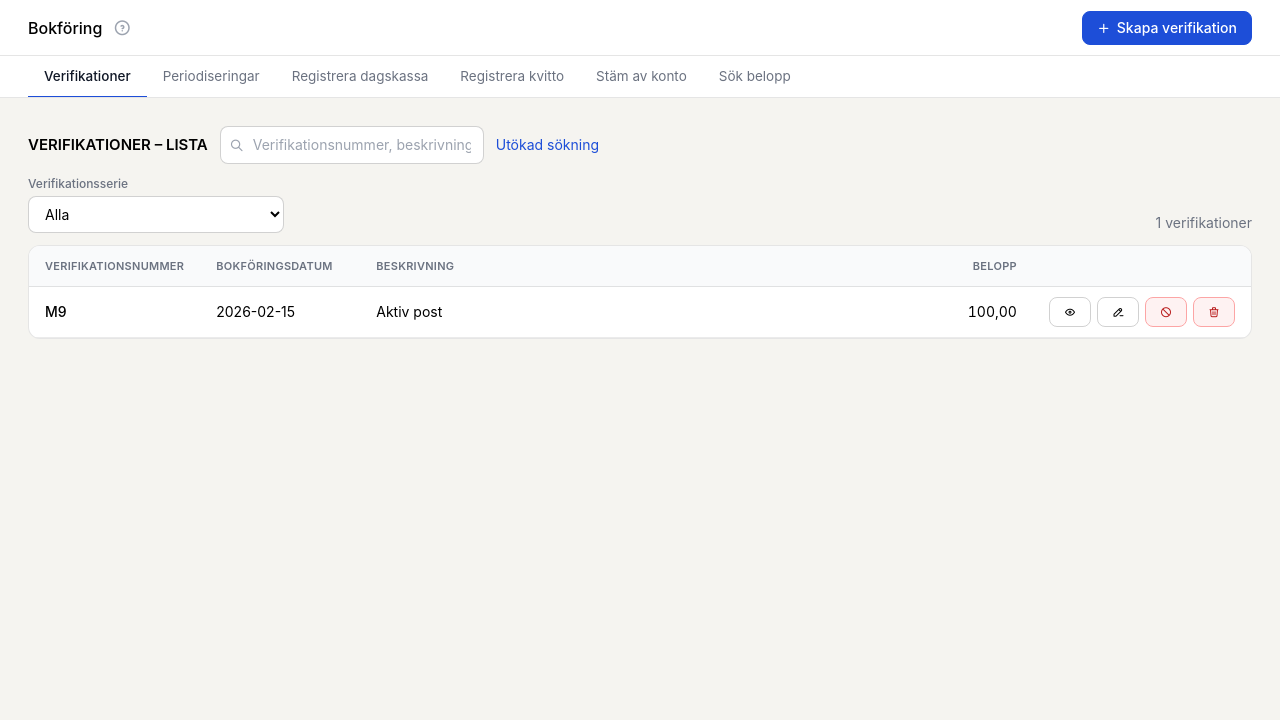
Test: Bokföring – spårbart rättelseflöde (BFL) › valt datum i låst period blockeras med svensk förklaring (ingen RPC)
Expected: the text "M9" is shown, [29,287,200,338]
Click the button titled "Rätta (spårbar rättelsekedja)" at coordinates (1118, 312), box [1097,297,1139,327]
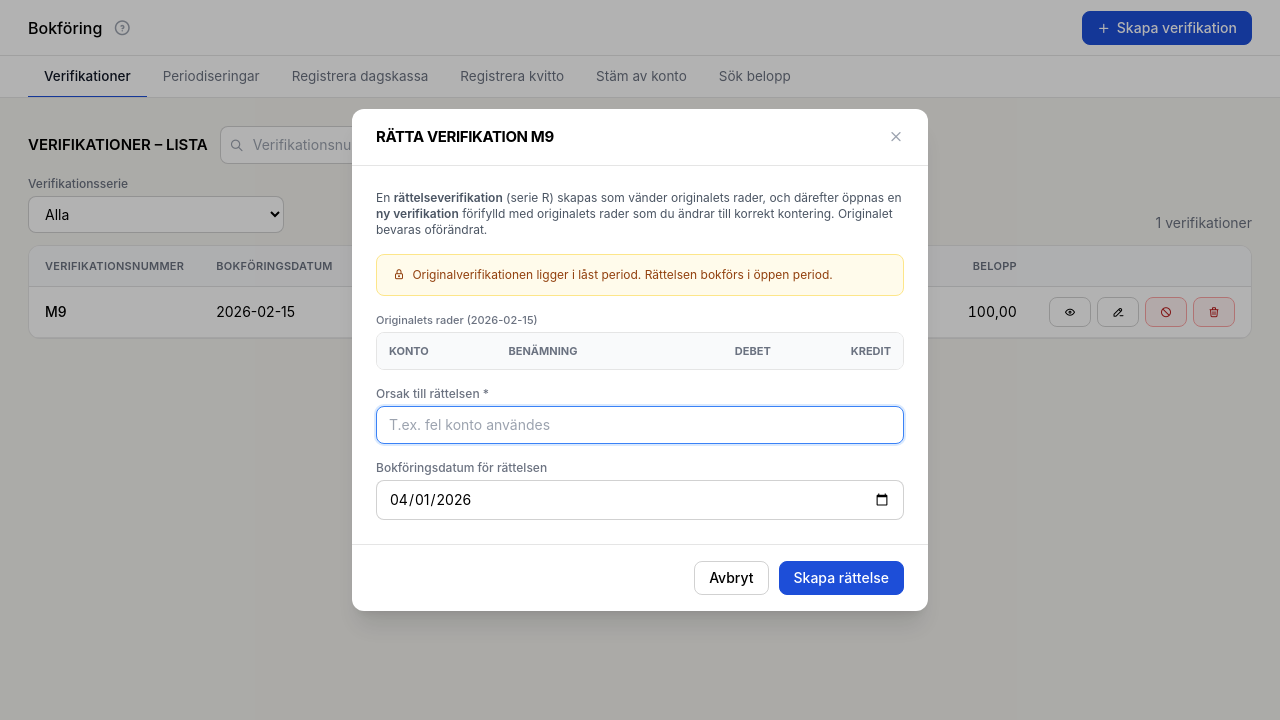
Expected: the text "RÄTTA VERIFIKATION M9" is shown, [376,126,554,148]
Type "Fel" into the field with placeholder "T.ex. fel konto användes" at coordinates (640, 425), box [376,406,904,444]
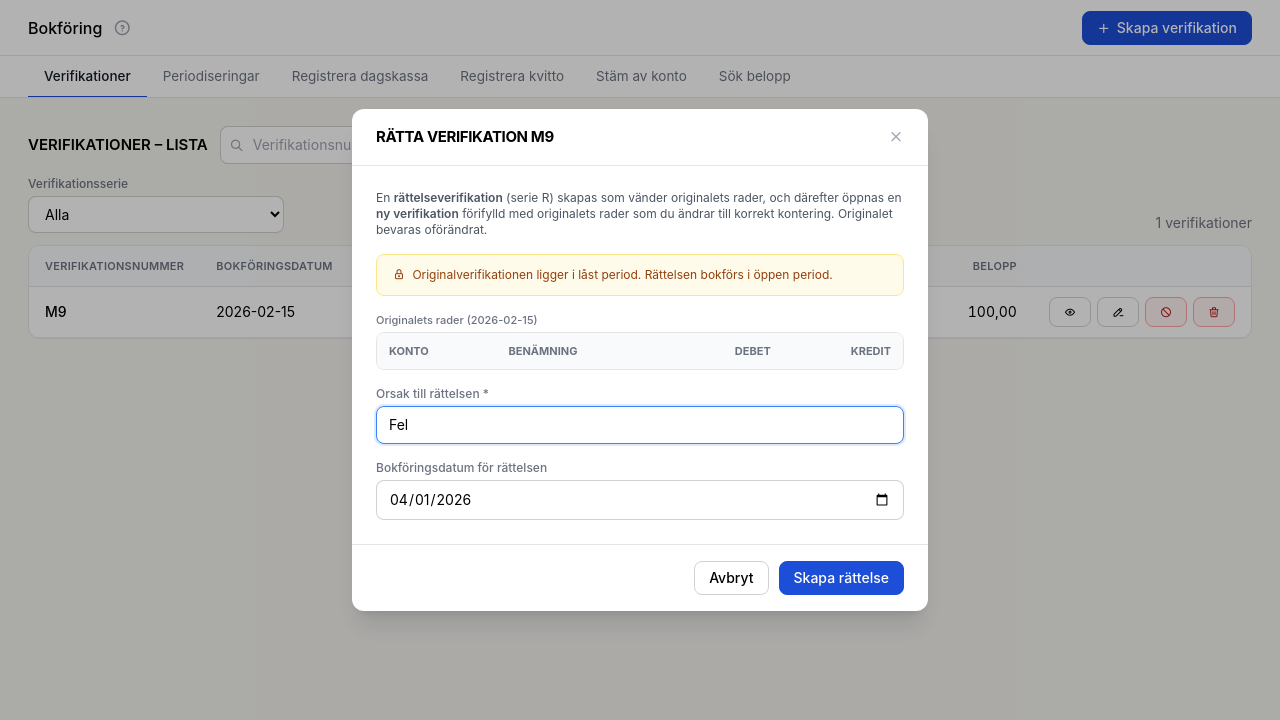
Type "2026-02-20" into the date field at coordinates (640, 500), box [376,480,904,520]
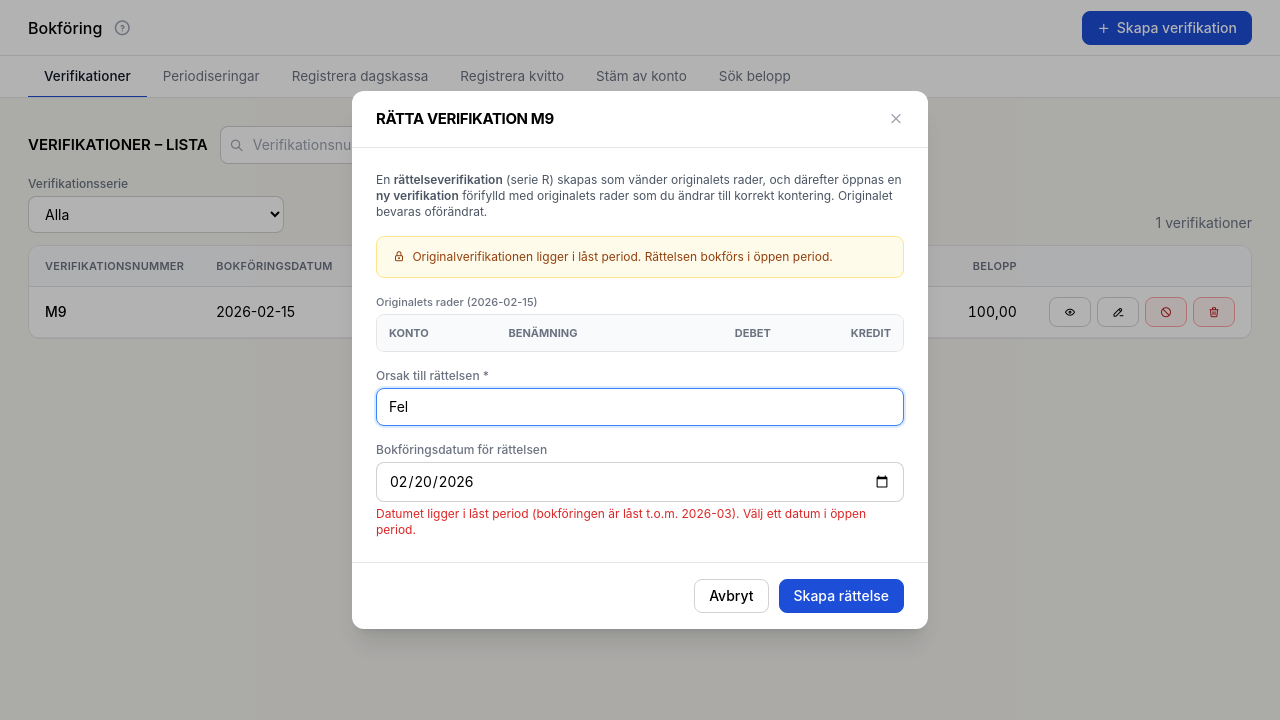
Expected: the text "Datumet ligger i låst period" is shown, [376,506,682,521]
Expected: the button "Skapa rättelse" is disabled, [778,579,904,613]
